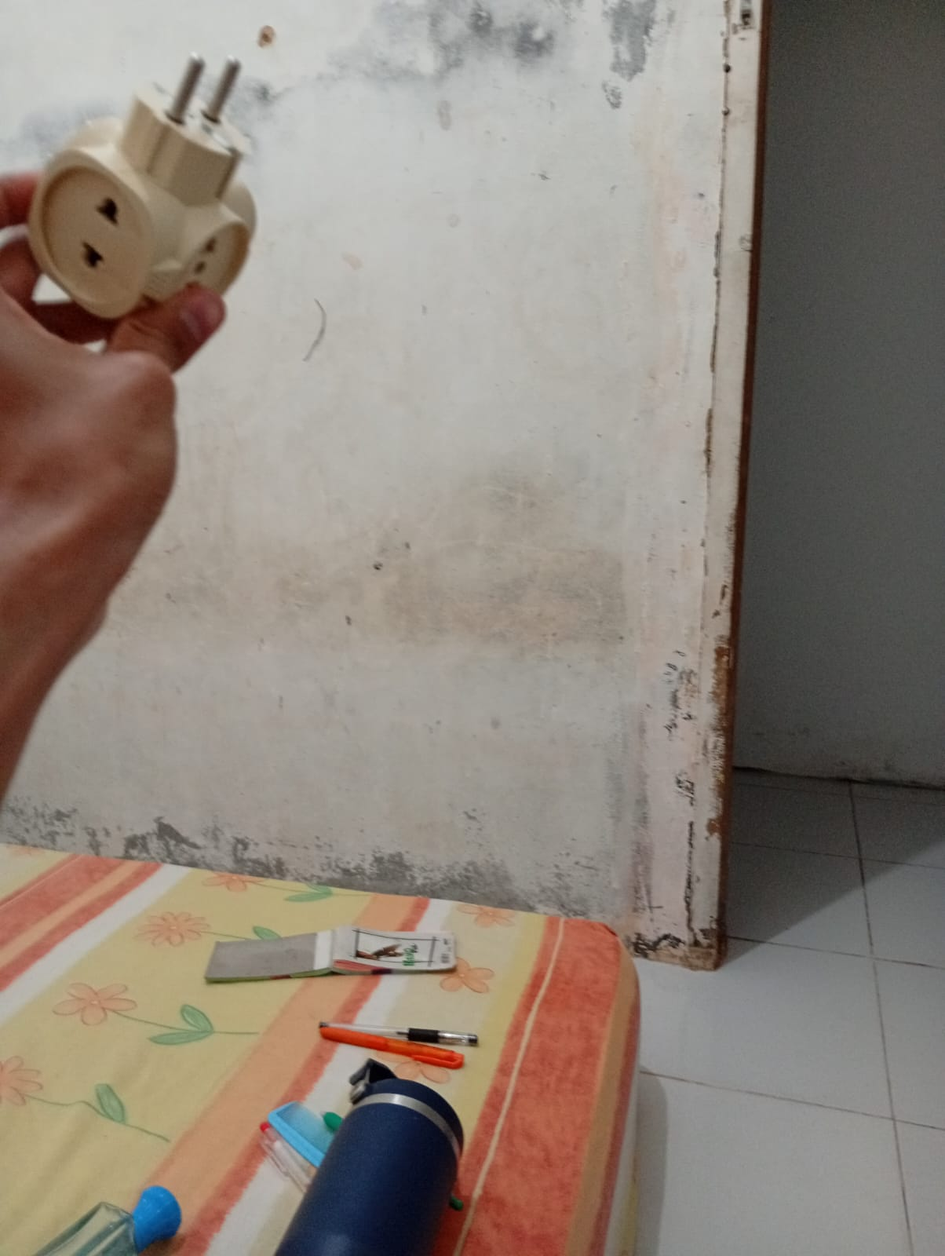Colokan: (25, 40, 271, 336)
Parfum: (263, 1050, 479, 1256), (8, 1158, 188, 1253)
